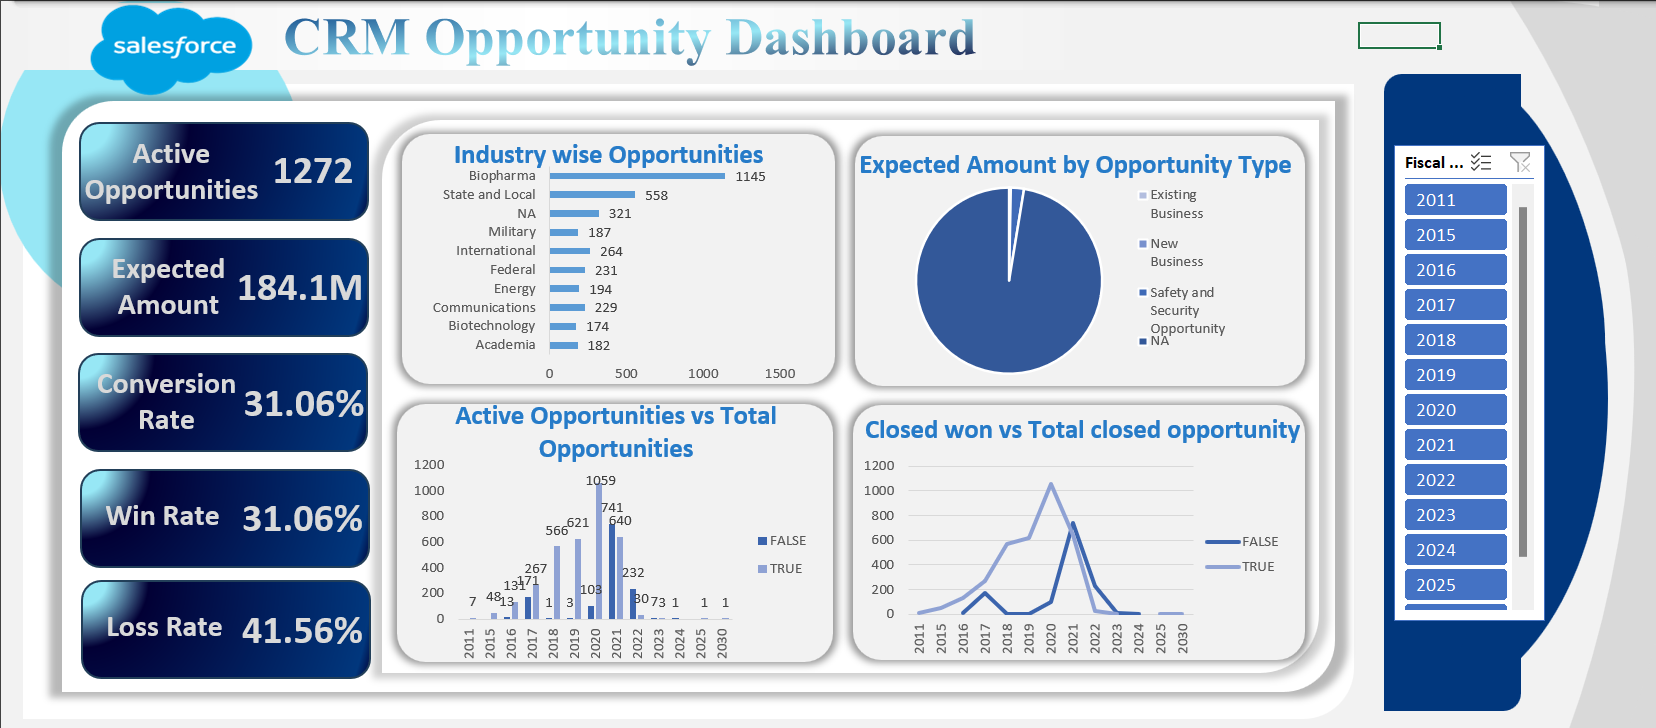

The page's visual inventory and layout, read from the dashboard file:
{"tool":"powerbi","page":{"name":"Opportunity","canvas":[1280,720],"ordinal":0},"visuals":[{"type":"card","title":"Expected Amount","fields":{"Values":["Sum(Opportunity.Expected Amount)"]},"box":[8.6,96.3,245,100],"z":0},{"type":"card","title":"Active Opportunities","fields":{"Values":["Sum(Opportunity.Active Opportunity)"]},"box":[1030.9,96.3,239.5,100],"z":1000},{"type":"card","title":"Conversion Rate","fields":{"Values":["Opportunity.Conversion_Rates"]},"box":[269.1,96.3,244.4,100],"z":2000},{"type":"card","title":"Win Rate","fields":{"Values":["Opportunity.Win_Rate"]},"box":[527.2,96.3,238.3,100],"z":3000},{"type":"card","title":"Loss Rate","fields":{"Values":["Opportunity.Loss_Rates"]},"box":[780.2,96.6,236,100.3],"z":4000},{"type":"donutChart","title":"Expected Amount by Opportunity Type","fields":{"Category":["Opportunity.Opportunity Type"],"Y":["Sum(Opportunity.Expected Amount)"]},"box":[8.6,207.4,380,228.4],"z":5000},{"type":"barChart","title":"Opportunity by Industry","fields":{"Category":["Opportunity.Industry"],"Y":["CountNonNull(Opportunity.Opportunity ID)"]},"box":[8.6,448.8,441.4,256.8],"z":6000},{"type":"lineChart","title":"Opportunity VS Total Closed by Fiscal Year","fields":{"Y":["CountNonNull(Opportunity.Opportunity ID)"],"Category":["Opportunity.Fiscal Year"],"Y2":["CountNonNull(Opportunity.Closed)"]},"box":[403.5,207.9,472,228.7],"z":7000},{"type":"pieChart","title":"Opportunity by Stage","fields":{"Category":["Opportunity.Stage"],"Y":["CountNonNull(Opportunity.Opportunity ID)"]},"box":[890.2,207.9,380.3,227.4],"z":8000},{"type":"clusteredColumnChart","title":" Total Opportunity and Total Active Opportunity by Fiscal Year","fields":{"Category":["Opportunity.Fiscal Year"],"Y":["CountNonNull(Opportunity.Opportunity ID)","Sum(Opportunity.Active Opportunity)"]},"box":[830.3,448.8,440.2,256.8],"z":9000},{"type":"slicer","fields":{"Values":["Opportunity.Fiscal Year"]},"box":[903.7,8.6,180,77],"z":10000},{"type":"slicer","fields":{"Values":["Opportunity.Fiscal Quarter"]},"box":[708,8.6,182.2,77],"z":11000},{"type":"textbox","box":[8.6,8.6,687.2,77],"z":12000},{"type":"treemap","title":"Opportunity by Lead Source","fields":{"Details":["Opportunity.Lead Source"],"Values":["CountNonNull(Opportunity.Opportunity ID)"]},"box":[461,448.8,357,256.8],"z":13000},{"type":"image","box":[8.6,0,110.1,94.2],"z":14000},{"type":"actionButton","box":[1097.7,8.3,172.5,76.5],"z":15000}]}

Visuals, with their boxes on the page's 1280x720 design canvas (x1, y1, x2, y2). These are canvas units, not pixel positions in the 1656x728 screenshot, which may show the page scaled, cropped or inside an application window:
"Expected Amount" card: 9/96/254/196
"Active Opportunities" card: 1031/96/1270/196
"Conversion Rate" card: 269/96/514/196
"Win Rate" card: 527/96/766/196
"Loss Rate" card: 780/97/1016/197
"Expected Amount by Opportunity Type" donutChart: 9/207/389/436
"Opportunity by Industry" barChart: 9/449/450/706
"Opportunity VS Total Closed by Fiscal Year" lineChart: 404/208/876/437
"Opportunity by Stage" pieChart: 890/208/1270/435
" Total Opportunity and Total Active Opportunity by Fiscal Year" clusteredColumnChart: 830/449/1270/706
slicer - Opportunity.Fiscal Year: 904/9/1084/86
slicer - Opportunity.Fiscal Quarter: 708/9/890/86
textbox: 9/9/696/86
"Opportunity by Lead Source" treemap: 461/449/818/706
image: 9/0/119/94
actionButton: 1098/8/1270/85
